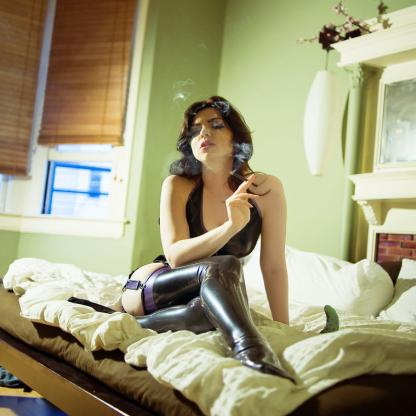smoking: (230, 171, 258, 187)
